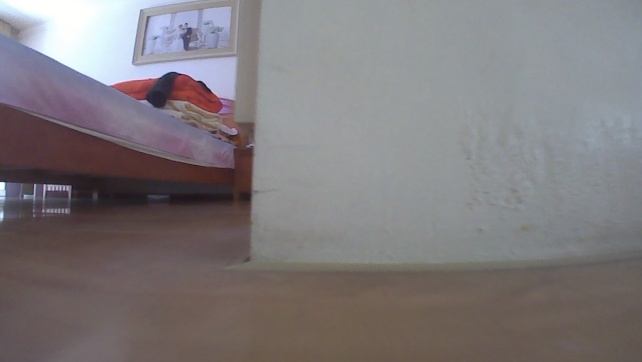bed: (0, 29, 241, 191)
